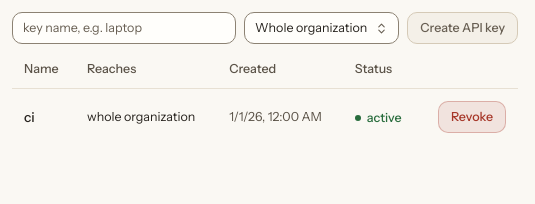
it: creating an API key › shows the API's refusal and no token
Step 1. Type "laptop" into the field labelled "key name" → x=124, y=28, box [12,12,236,44]
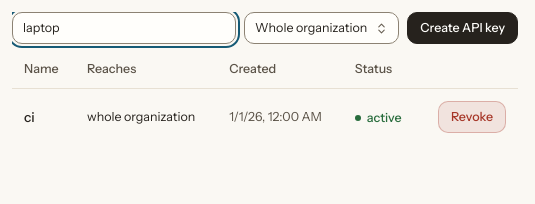
Step 2. Click the button "Create API key" → x=463, y=28, box [407,12,518,44]
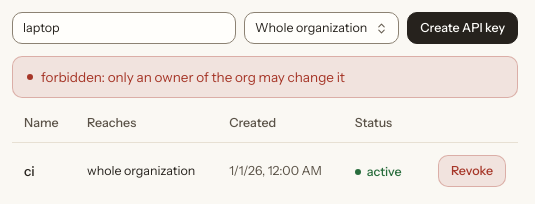
Result: the text "forbidden: only an owner of the org may change it" is shown at [41,67,345,87]
